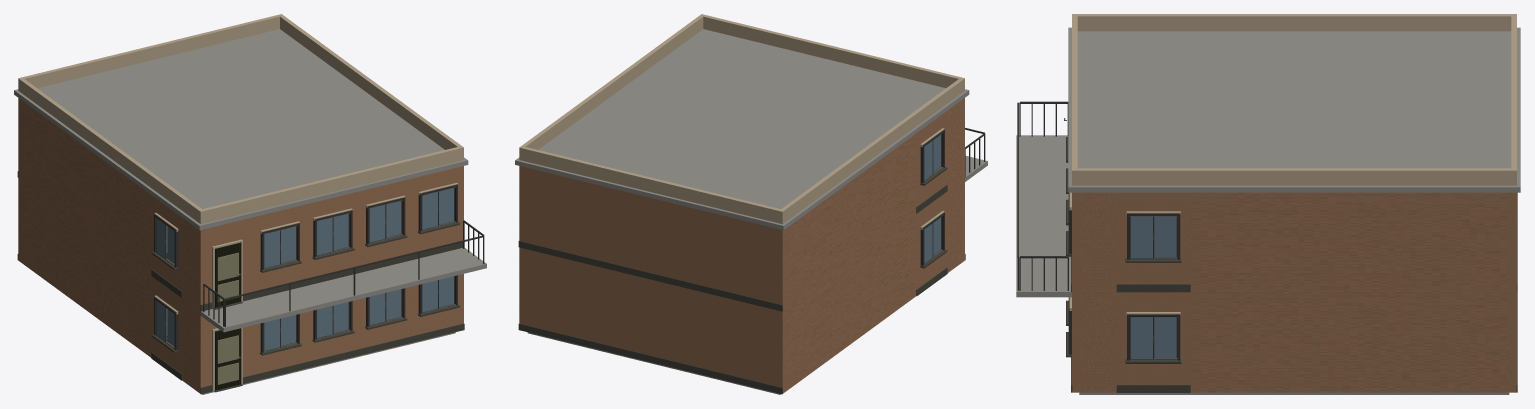
The model's file is MS_HV_02_WideBalconyHouse.glb.
The picture shows the model from 3 angles, left to right: view 1: azimuth 30°, elevation 25°; view 2: azimuth 150°, elevation 25°; view 3: azimuth 270°, elevation 25°; orthographic projection. The views are drawn at different scales.
Visible parts, largest first — view 1: StaticBatch12, StaticBatch6, StaticBatch2, StaticBatch24, StaticBatch14, Plaster_0052, StaticBatch3, StaticBatch7, Plaster_005, StaticBatch25, RaisedPanel, RaisedPanel2 (+23 smaller); view 2: StaticBatch12, StaticBatch2, StaticBatch6, StaticBatch24, StaticBatch4, StaticBatch8, StaticBatch10, Frame5, Frame11; view 3: StaticBatch12, StaticBatch2, StaticBatch6, StaticBatch24, StaticBatch14, StaticBatch25, StaticBatch7, StaticBatch10, StaticBatch3, Glass_00112, Glass_0016, Glass12 (+3 smaller).
Boxes of the visible parts, box(x1,y1,x2,y2) form: StaticBatch12: box(14, 29, 468, 230); StaticBatch6: box(18, 98, 463, 308); StaticBatch2: box(18, 178, 463, 391); StaticBatch24: box(18, 14, 463, 223); StaticBatch14: box(200, 248, 486, 332); Plaster_0052: box(197, 217, 253, 310); StaticBatch3: box(151, 304, 464, 381); StaticBatch7: box(151, 222, 462, 298); Plaster_005: box(197, 309, 253, 393); StaticBatch25: box(203, 220, 484, 326); RaisedPanel: box(217, 335, 238, 384); RaisedPanel2: box(217, 252, 238, 301); StaticBatch12: box(515, 29, 969, 230); StaticBatch2: box(519, 180, 961, 393); StaticBatch6: box(519, 100, 961, 310); StaticBatch24: box(519, 14, 964, 223); StaticBatch4: box(518, 323, 782, 394); StaticBatch8: box(518, 241, 782, 311); StaticBatch10: box(527, 332, 780, 394); Frame5: box(920, 212, 944, 265); Frame11: box(920, 129, 944, 183); StaticBatch12: box(1068, 27, 1520, 192); StaticBatch2: box(1072, 292, 1516, 392); StaticBatch6: box(1072, 192, 1516, 291); StaticBatch24: box(1072, 14, 1516, 185); StaticBatch14: box(1016, 135, 1071, 297); StaticBatch25: box(1017, 101, 1068, 290); StaticBatch7: box(1066, 137, 1190, 292); StaticBatch10: box(1079, 392, 1509, 394); StaticBatch3: box(1066, 300, 1190, 392); Glass_00112: box(1130, 216, 1152, 258); Glass_0016: box(1130, 317, 1152, 358); Glass12: box(1154, 216, 1176, 257).
Size of the model in its own units: 10.32 by 6.77 by 13.6.
20 materials, 5 textured.
